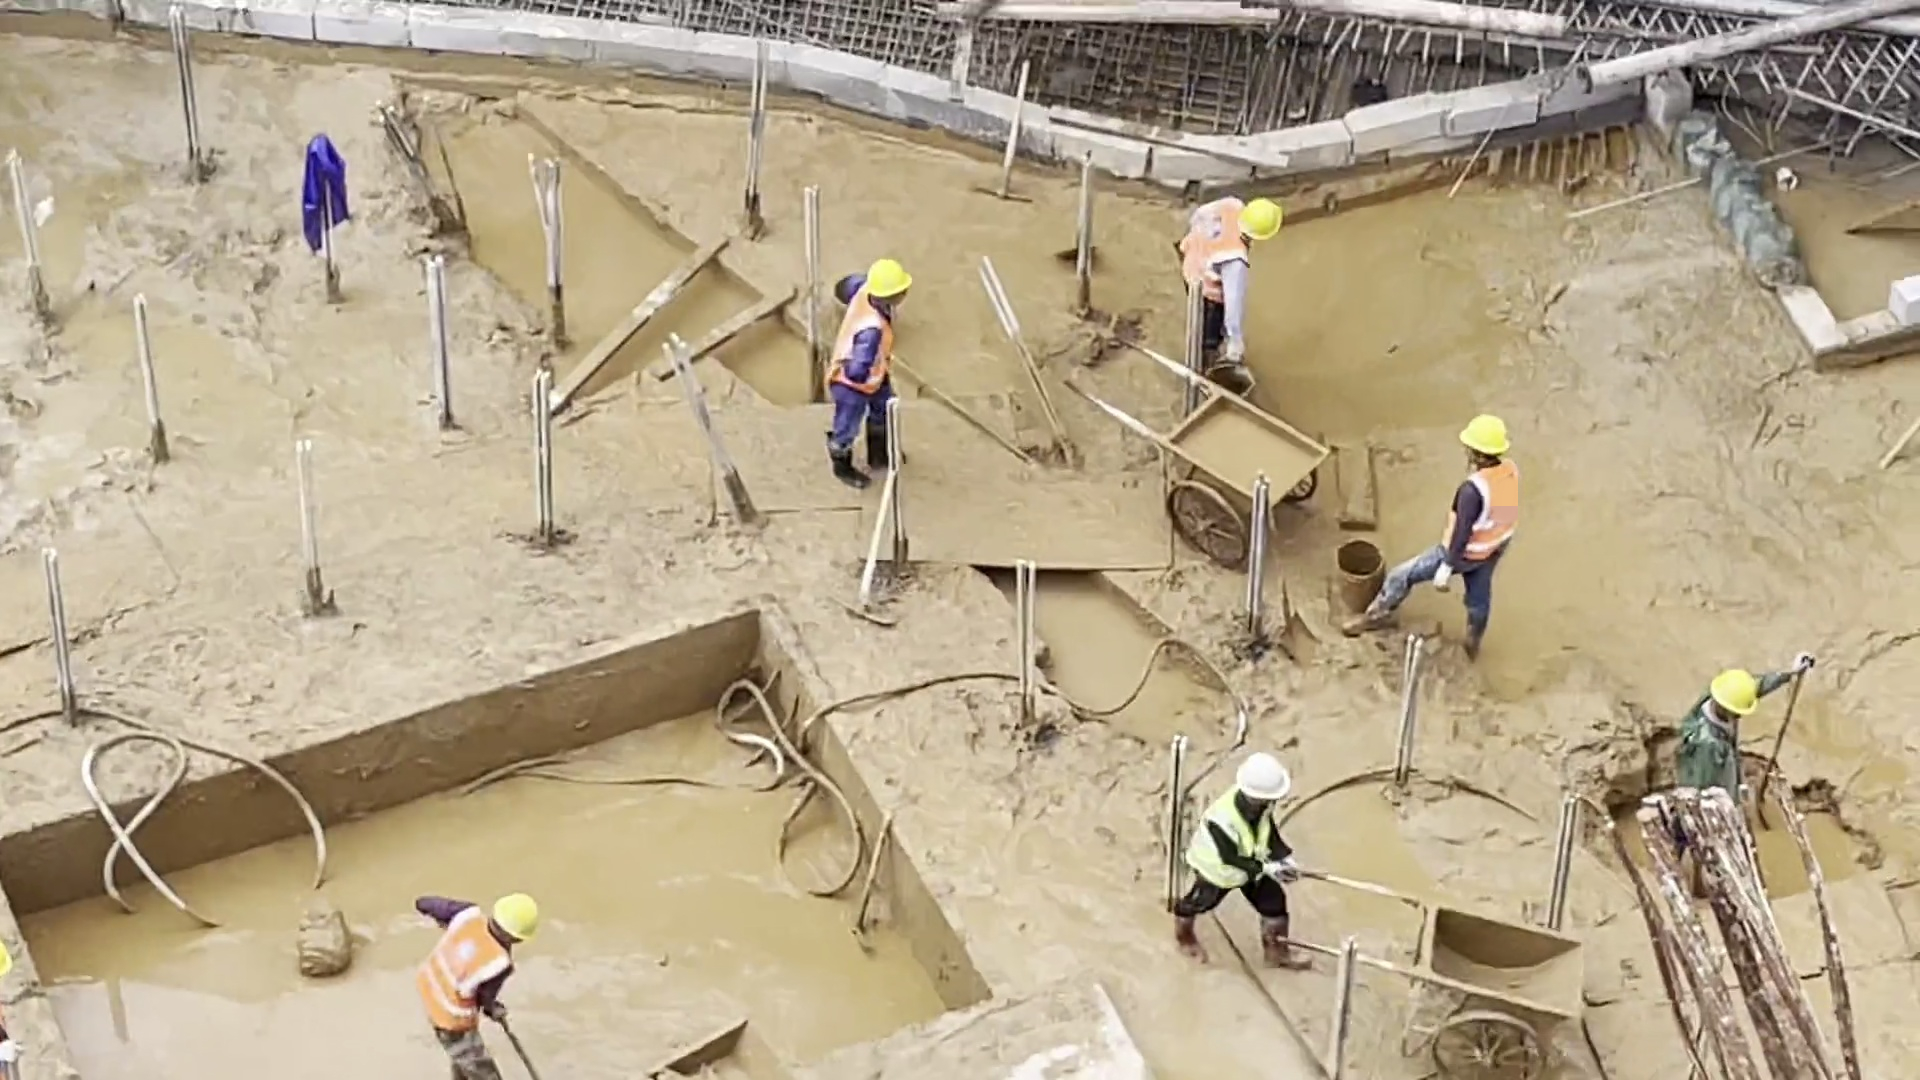helmet: (1234, 751, 1294, 802), (1708, 669, 1762, 719), (494, 893, 544, 943), (1460, 414, 1514, 457), (1234, 196, 1283, 240), (864, 259, 912, 300)
person: (1344, 416, 1524, 648), (1171, 748, 1309, 968), (415, 893, 547, 1080), (824, 259, 913, 488), (1173, 194, 1280, 376), (1686, 646, 1797, 796)
vest: (417, 908, 517, 1028), (1183, 785, 1283, 888), (1175, 197, 1253, 305), (827, 284, 897, 389), (1462, 465, 1522, 566)
